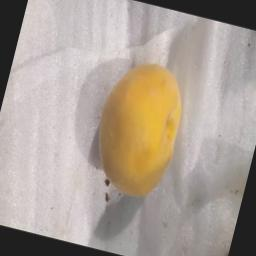Peach Unripe: (72, 46, 206, 212)
